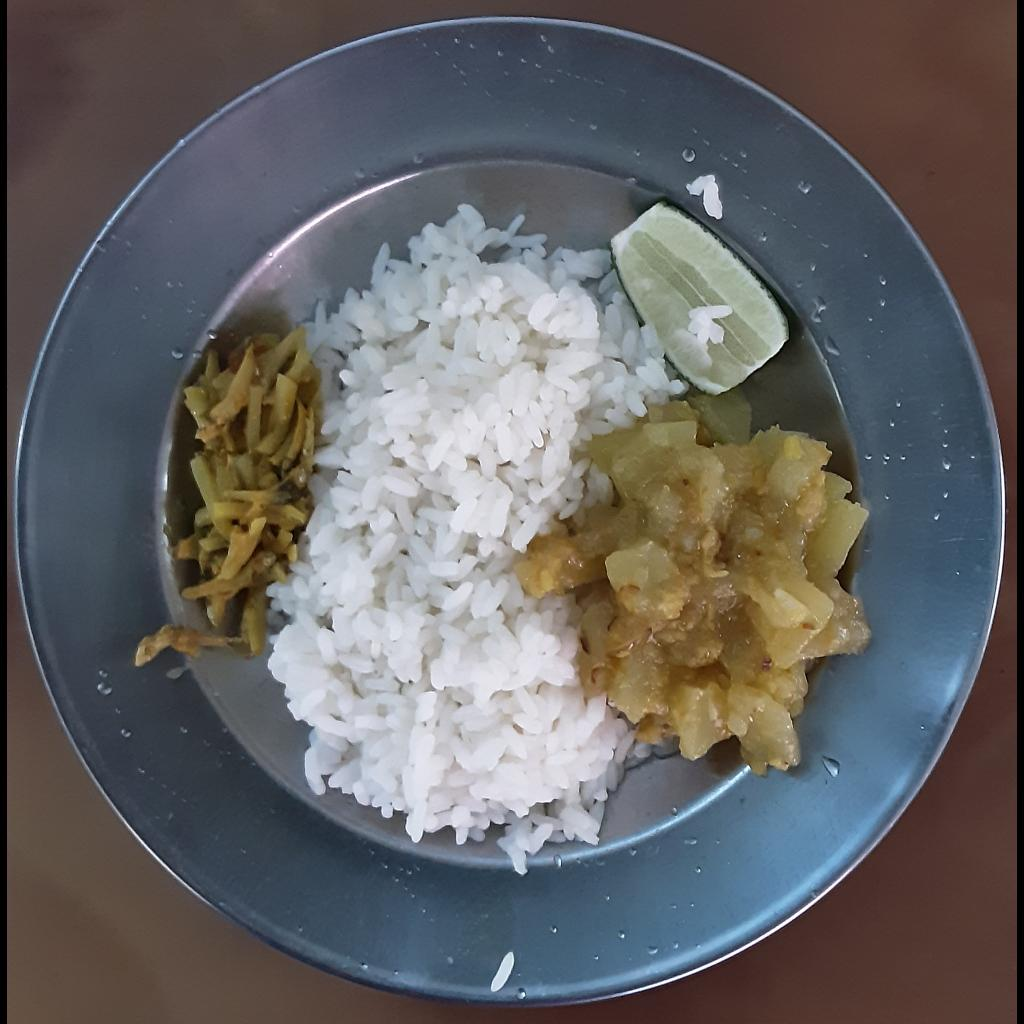begun-vaji: (171, 331, 326, 653)
lau: (517, 392, 872, 780)
lemon: (612, 203, 784, 396)
rice: (266, 206, 684, 876)
